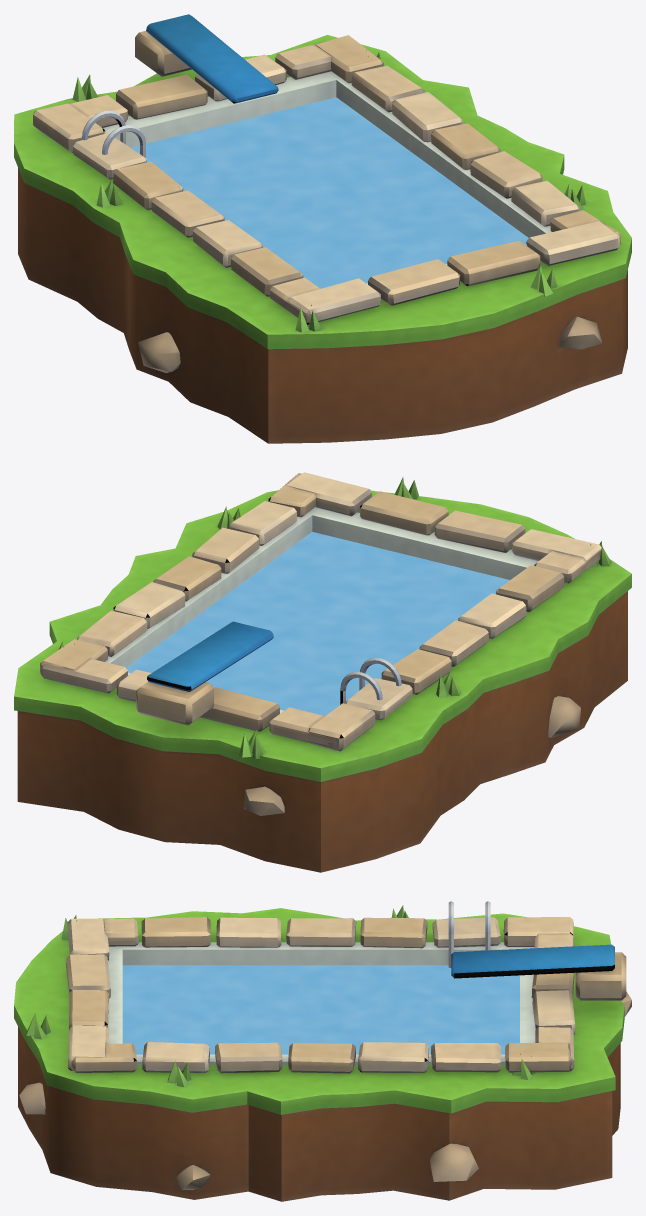
Rendered from SwimmingPool.glb.
The picture shows the model from 3 angles, top to bottom: view 1: azimuth 30°, elevation 25°; view 2: azimuth 150°, elevation 25°; view 3: azimuth 270°, elevation 25°; orthographic projection. The views are drawn at different scales.
Parts seen in each view (by area): view 1: SwimmingPool, SwimmingPool_Water; view 2: SwimmingPool, SwimmingPool_Water; view 3: SwimmingPool, SwimmingPool_Water.
Boxes of the visible parts, x1,y1,x2,y2 form: SwimmingPool: (14,14,631,443); SwimmingPool_Water: (130,97,528,288); SwimmingPool: (14,472,631,872); SwimmingPool_Water: (126,532,509,715); SwimmingPool: (14,901,631,1201); SwimmingPool_Water: (122,965,519,1054).
Bounding box in the file's own units: 7.9 × 3.99 × 10.
Materials: 1 (1 with a texture image).
